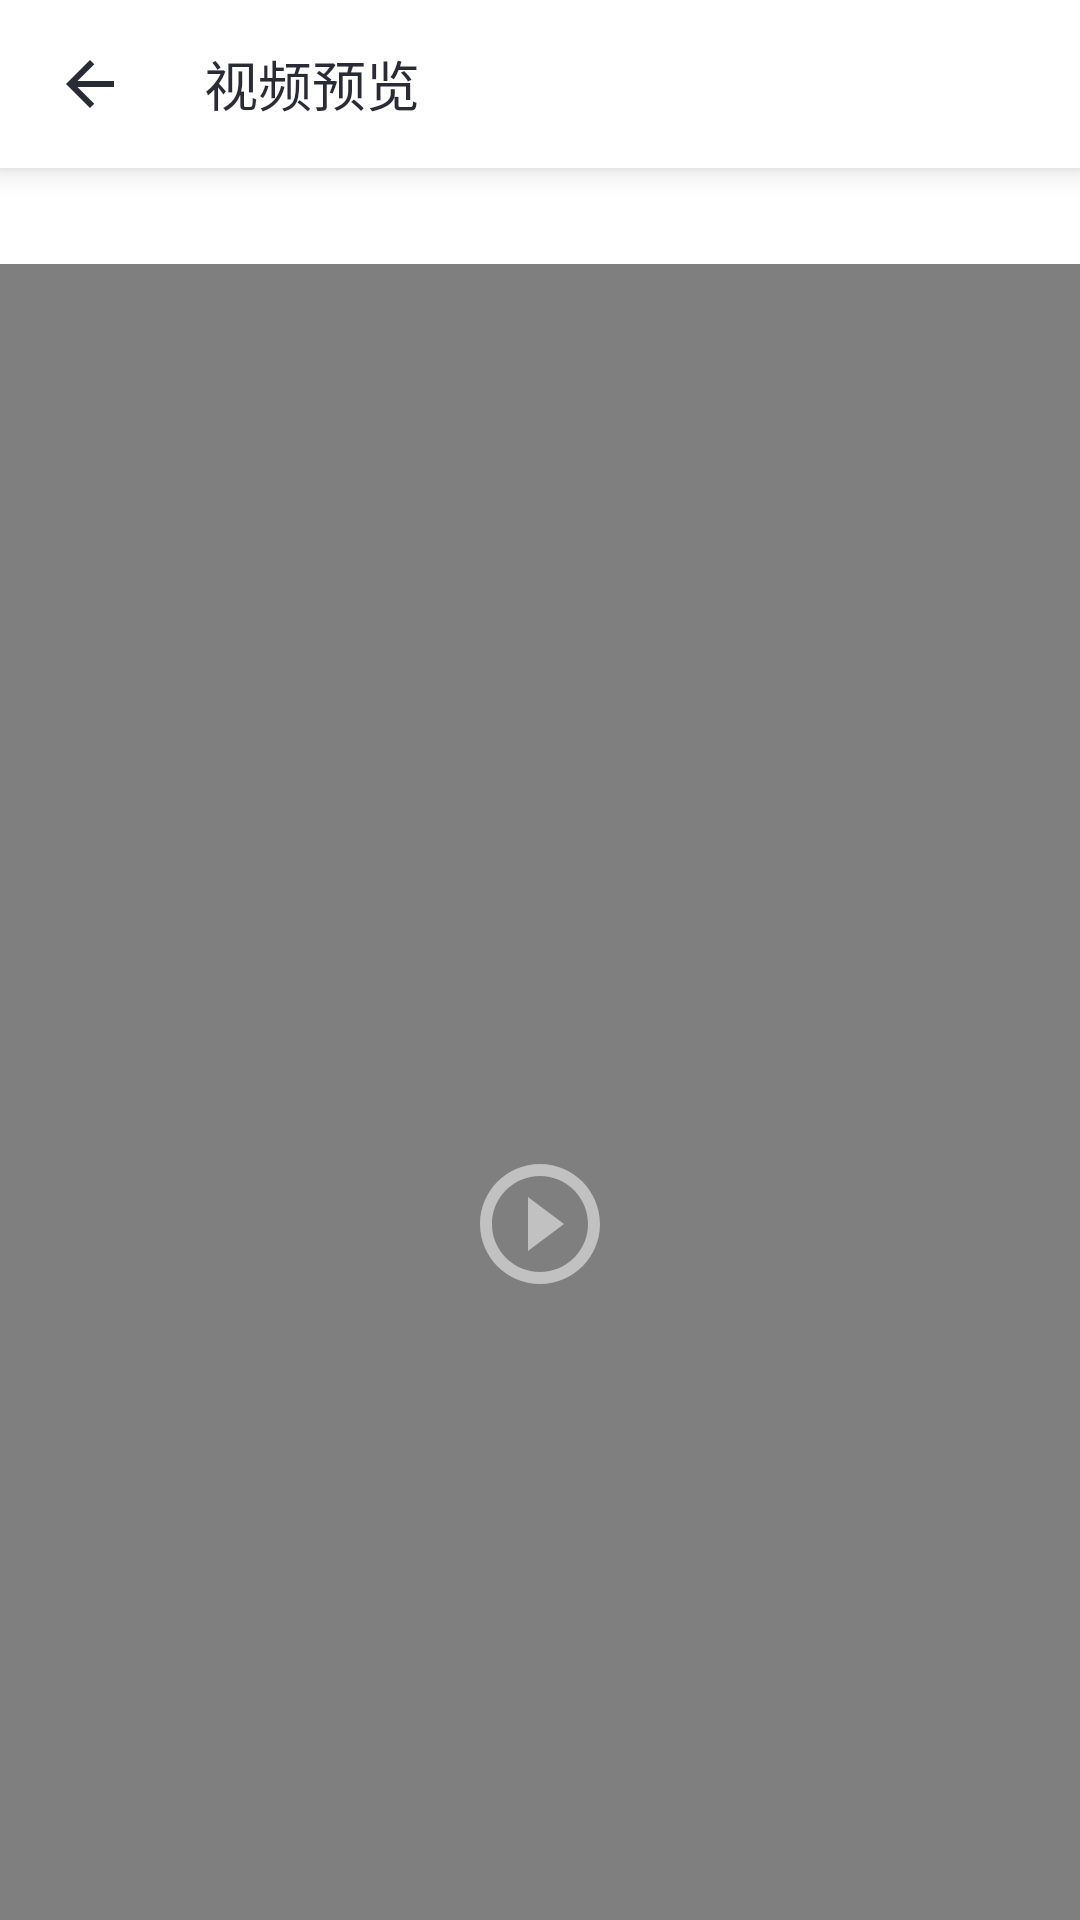

Screen size 1080px x 1920px. Icon name, then its box in pixels as (x1, y1, x2, y2):
arrow back: (66, 60, 114, 108)
play circle: (480, 1164, 600, 1284)
